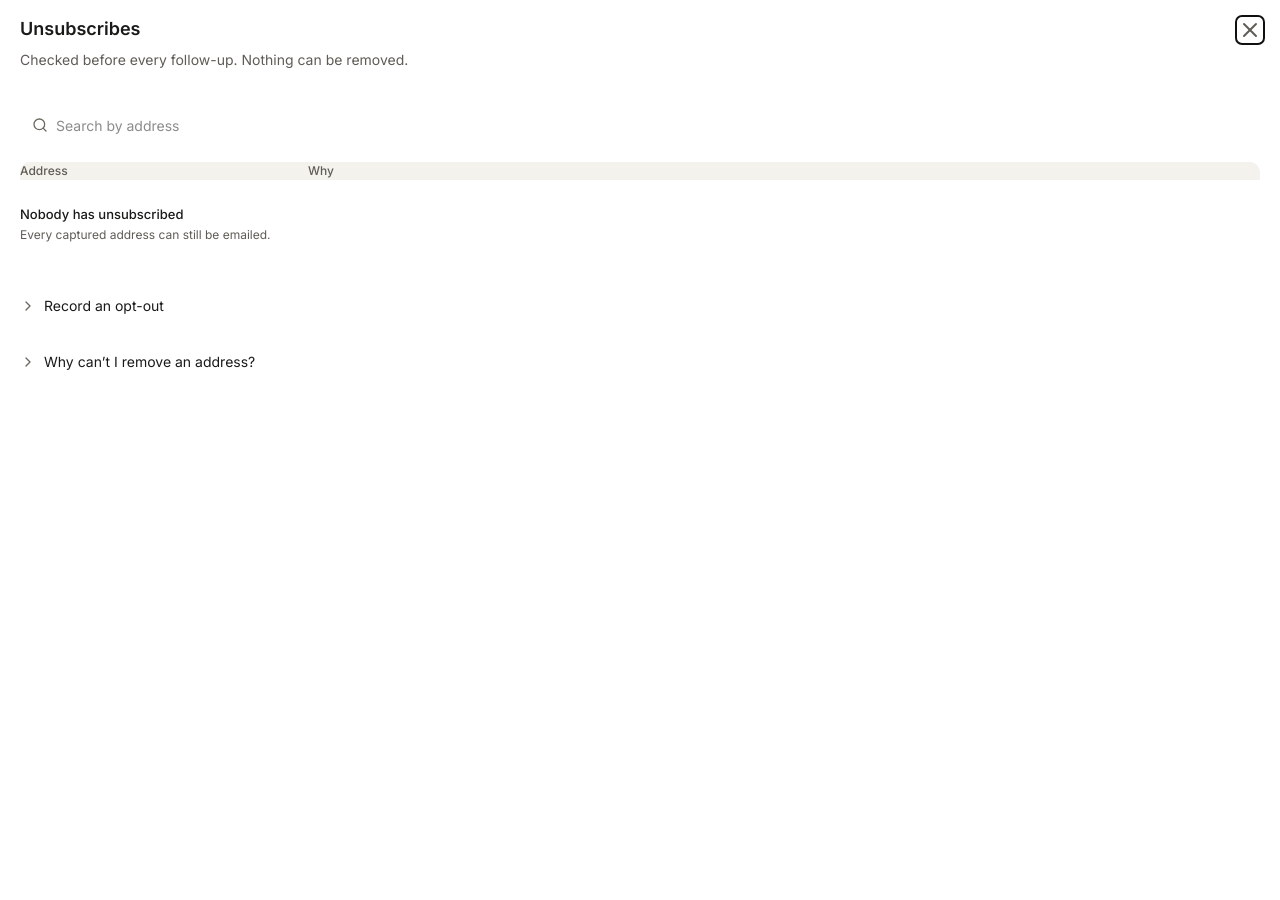
Test: SuppressionsDrawer › separates "nobody has unsubscribed" from "nothing matched your search"
expect the text "Nobody has unsubscribed" is shown: met, box [20,206,183,222]
In the search field named "Search unsubscribed": [640, 125] box [20,108,1260,142], type "nope"
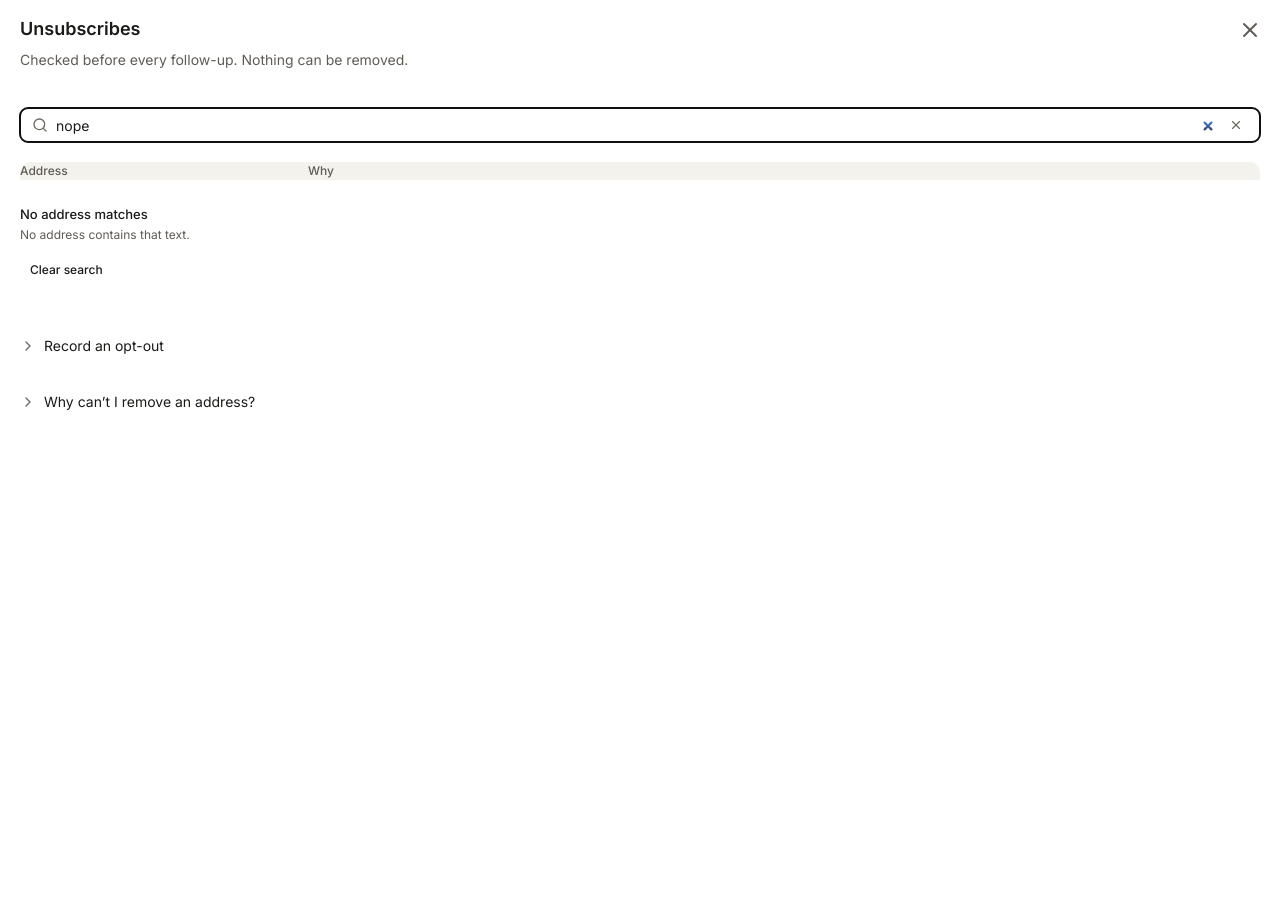
expect the text "No address matches" is shown: met, box [20,206,148,222]
